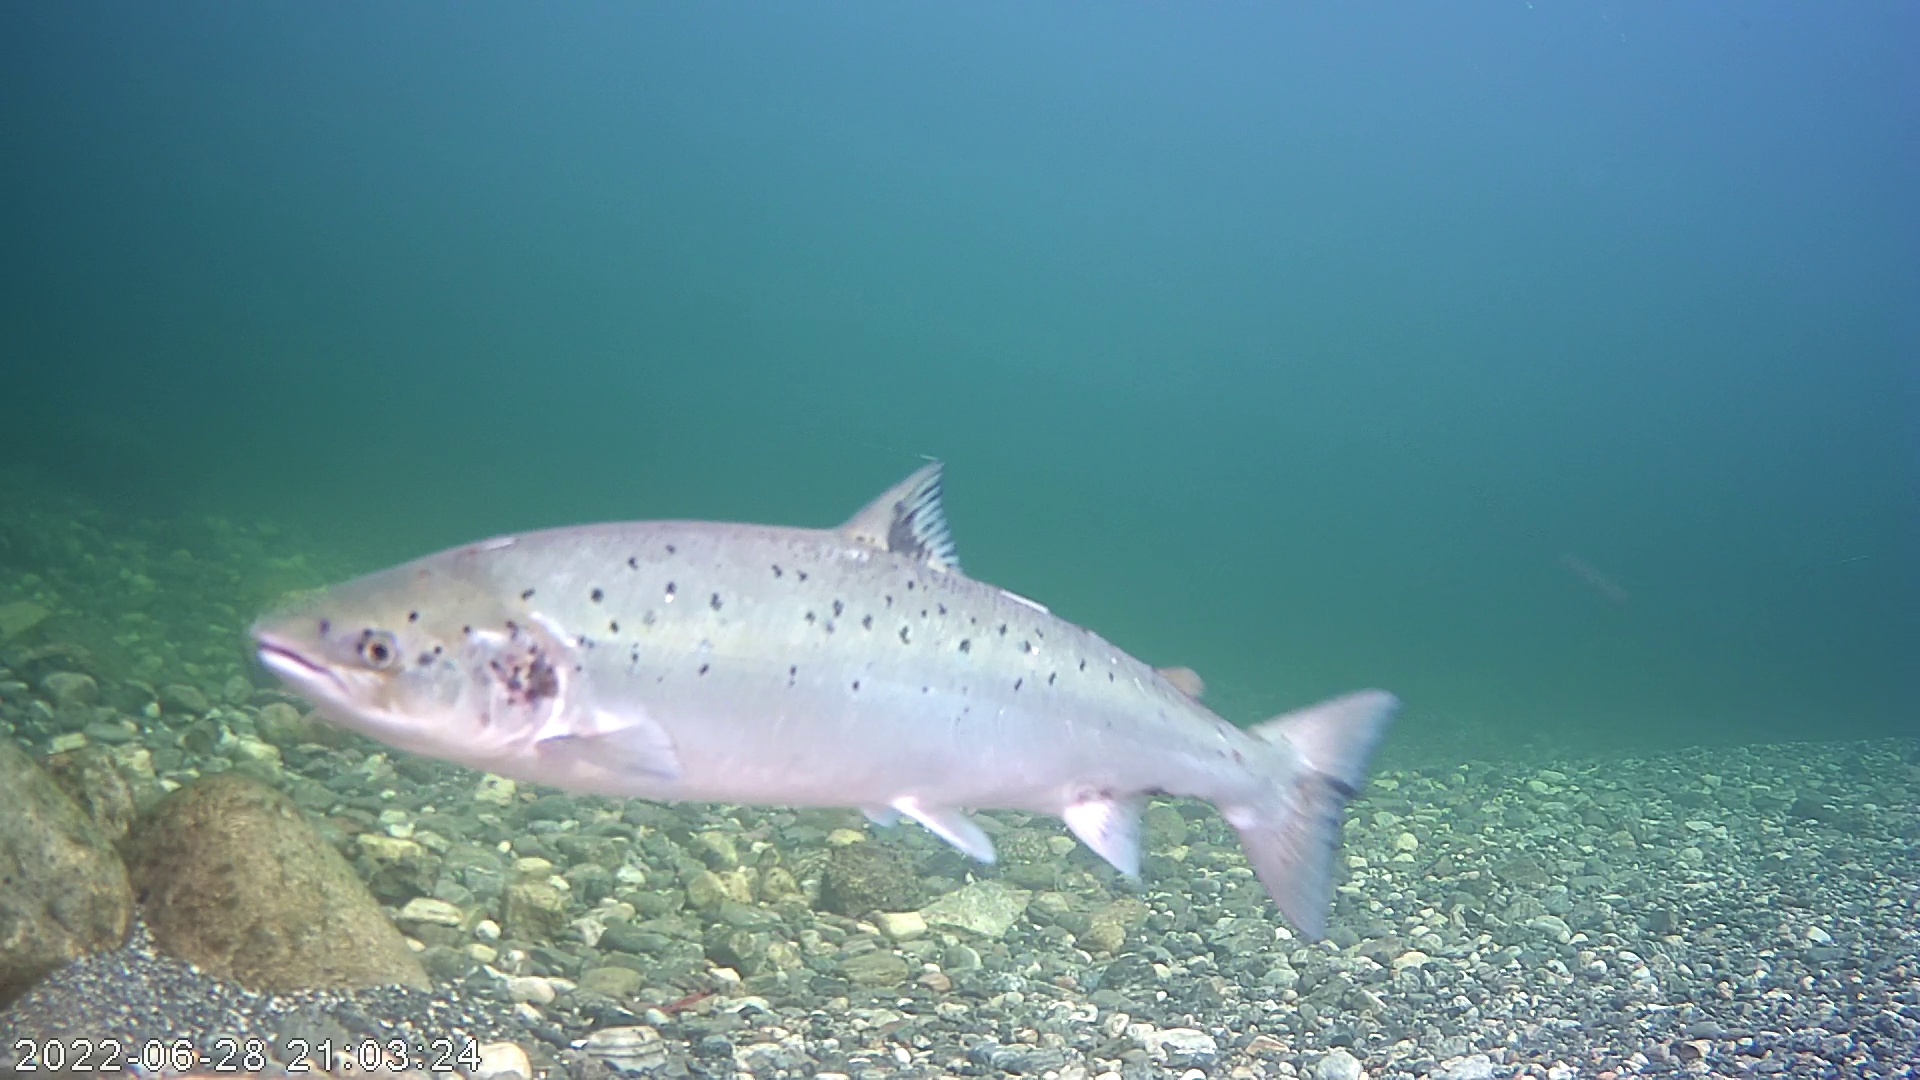salmon: (244, 373, 1371, 930)
